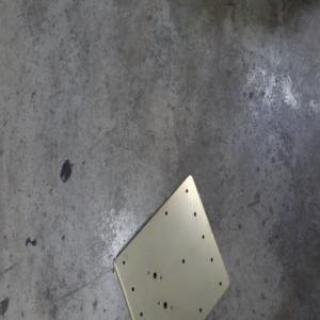MetalSheettrack_idkeyframe: (110, 170, 230, 319)
